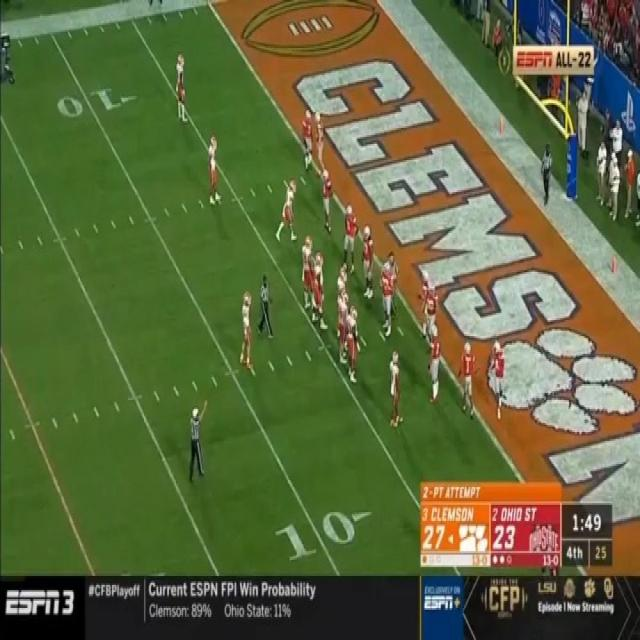center: (338, 268, 349, 298)
db: (488, 336, 503, 409), (431, 327, 441, 400), (464, 346, 474, 411), (315, 110, 325, 162), (304, 108, 312, 168)
lb: (418, 270, 430, 300), (324, 170, 330, 229)
qb: (239, 294, 254, 366)
